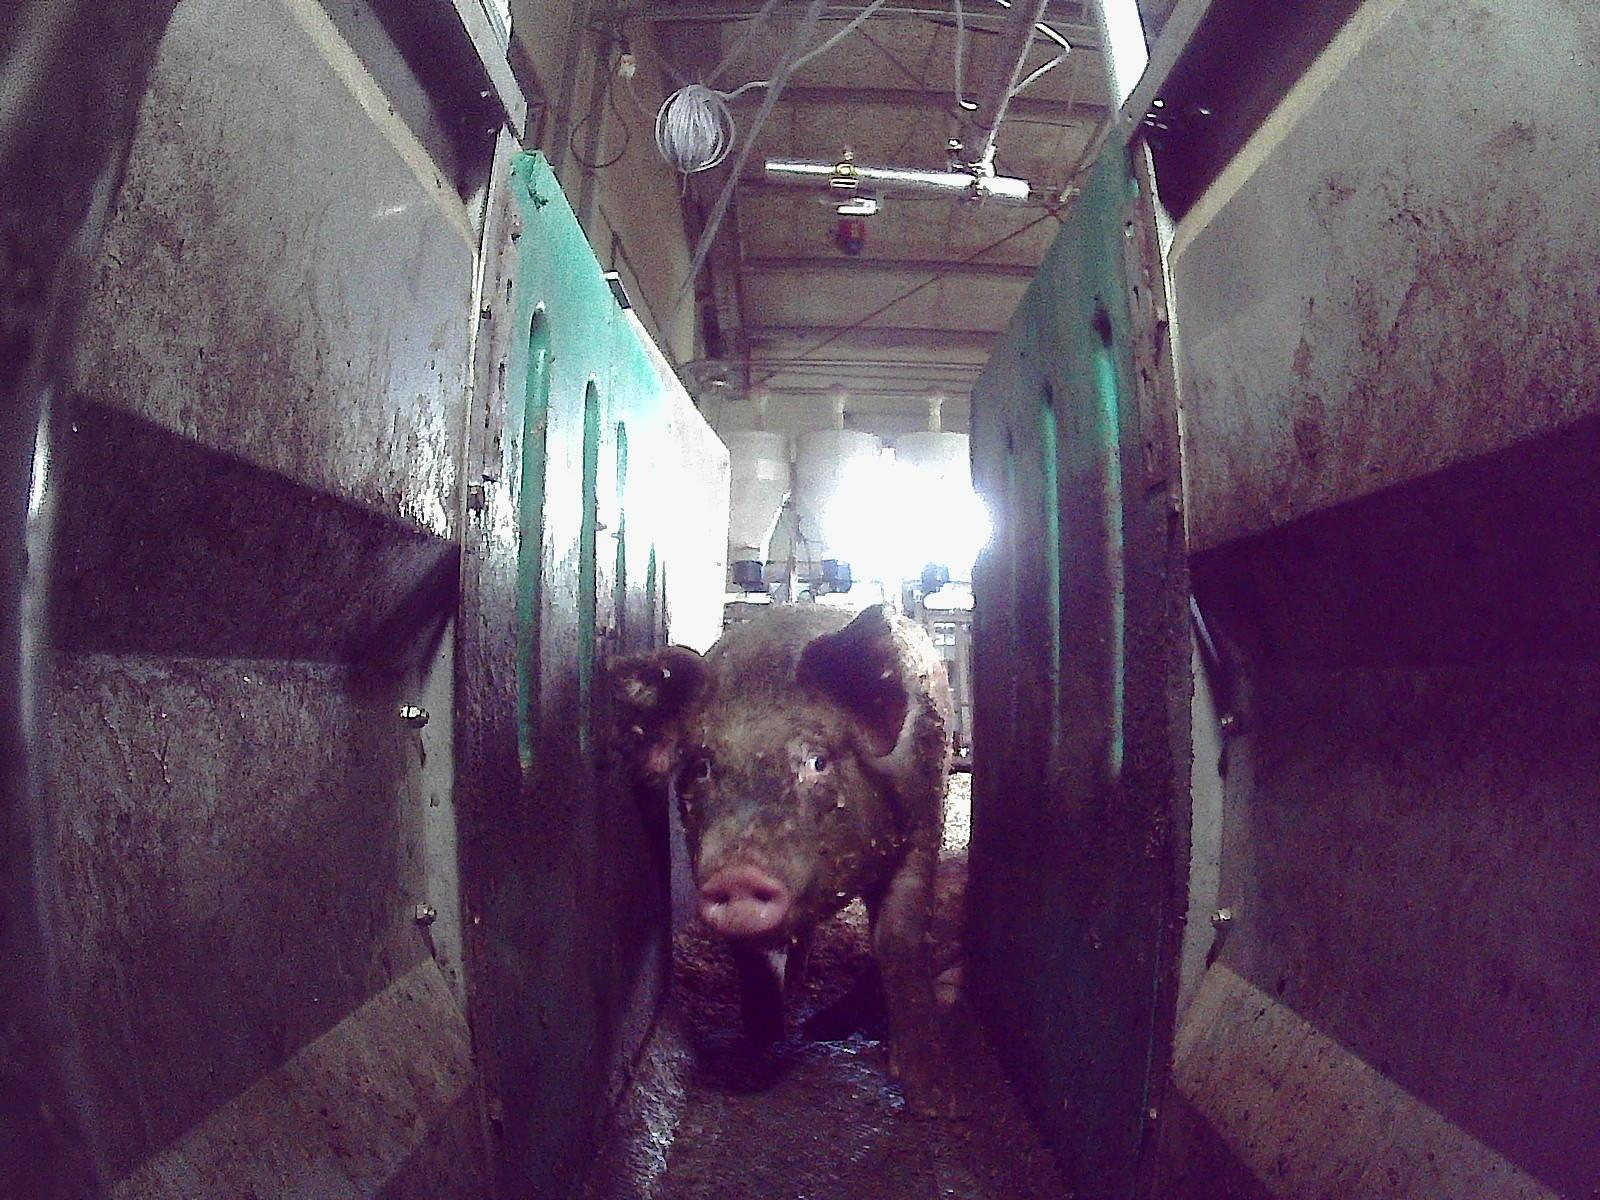Face: (671, 653, 901, 940)
